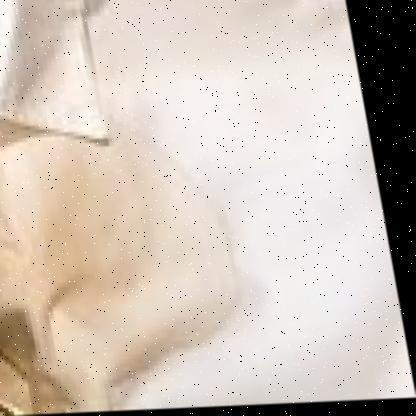coffee: (1, 222, 133, 377)
